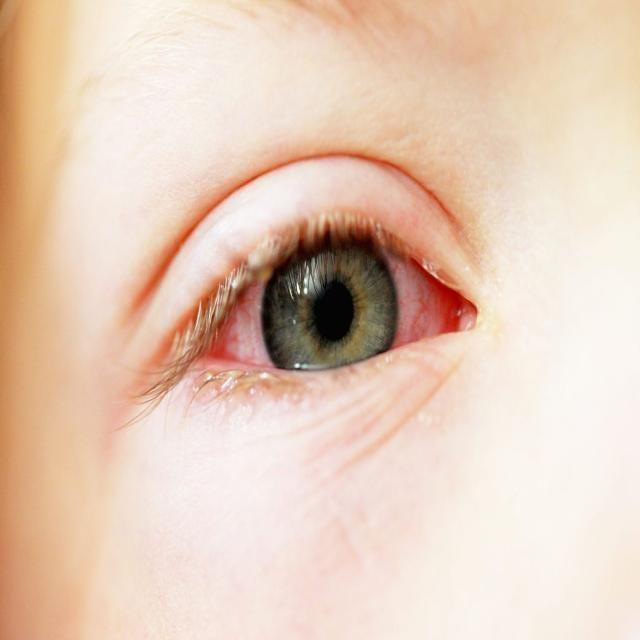Conjunctivitis: (214, 258, 481, 367)
